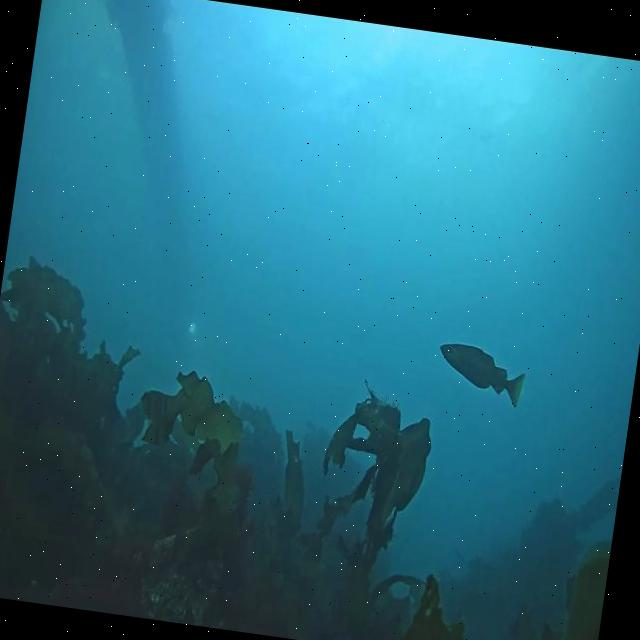fish: (432, 339, 528, 412)
